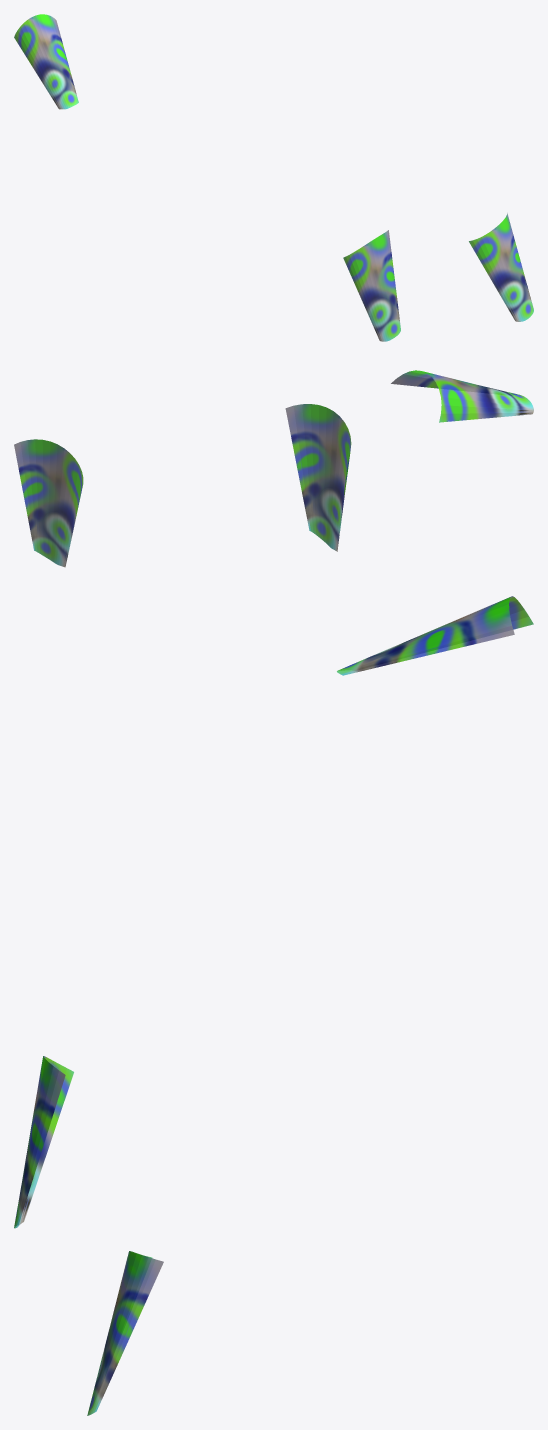
Rendered from bluenails.glb.
3 views of the same model, one above another, from view 1: azimuth 30°, elevation 25°; view 2: azimuth 150°, elevation 25°; view 3: azimuth 270°, elevation 25° (orthographic). The views are drawn at different scales.
Visible parts, largest first — view 1: Cylinder.012, Cylinder.003, Cylinder.004; view 2: Cylinder.012, Cylinder.004, Cylinder.003; view 3: Cylinder.003, Cylinder.004, Cylinder.012.
Part boxes in pixels (<box>): Cylinder.012: <box>343,230,400,341</box>; Cylinder.003: <box>14,14,78,109</box>; Cylinder.004: <box>469,213,533,321</box>; Cylinder.012: <box>285,404,351,551</box>; Cylinder.004: <box>14,439,83,567</box>; Cylinder.003: <box>391,370,533,422</box>; Cylinder.003: <box>337,596,533,675</box>; Cylinder.004: <box>87,1251,163,1415</box>; Cylinder.012: <box>14,1056,73,1228</box>.
Bounding box in the file's own units: 0.7233 × 0.5272 × 0.4807.
1 material, 1 textured.
